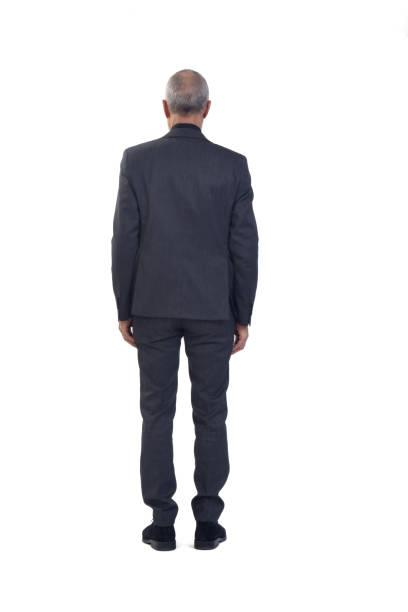Human: (87, 59, 286, 560)
